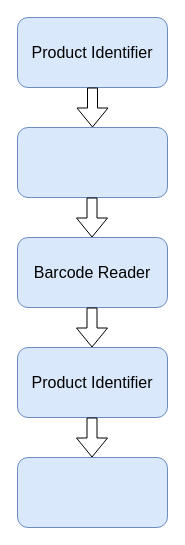
Image size: 185x545. Some labels were removed from this diagram. Here are the shapes that lost their labels. From the top down, the centre of each, then its label:
point 92,162: Object Detection
point 92,492: Voice Feedback
